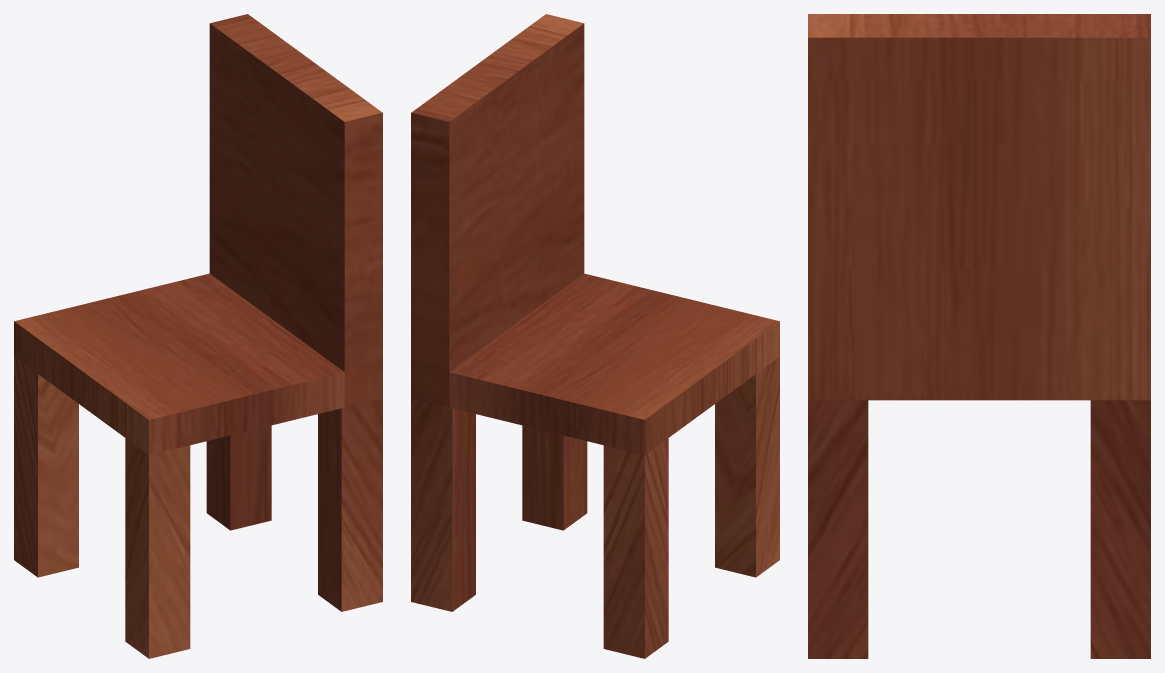
File: ChairWithTexturesDAE.DAE
The picture shows the model from 3 angles, left to right: view 1: azimuth 30°, elevation 25°; view 2: azimuth 150°, elevation 25°; view 3: azimuth 270°, elevation 25°; orthographic projection. The views are drawn at different scales.
Visible parts, largest first — view 1: Cube; view 2: Cube; view 3: Cube.
Boxes of the visible parts, x1,y1,x2,y2 form: Cube: [14, 14, 382, 658]; Cube: [411, 14, 779, 658]; Cube: [808, 14, 1150, 658].
Size of the model in its own units: 11.81 by 11.81 by 23.62.
Materials: 1 (1 with a texture image).
